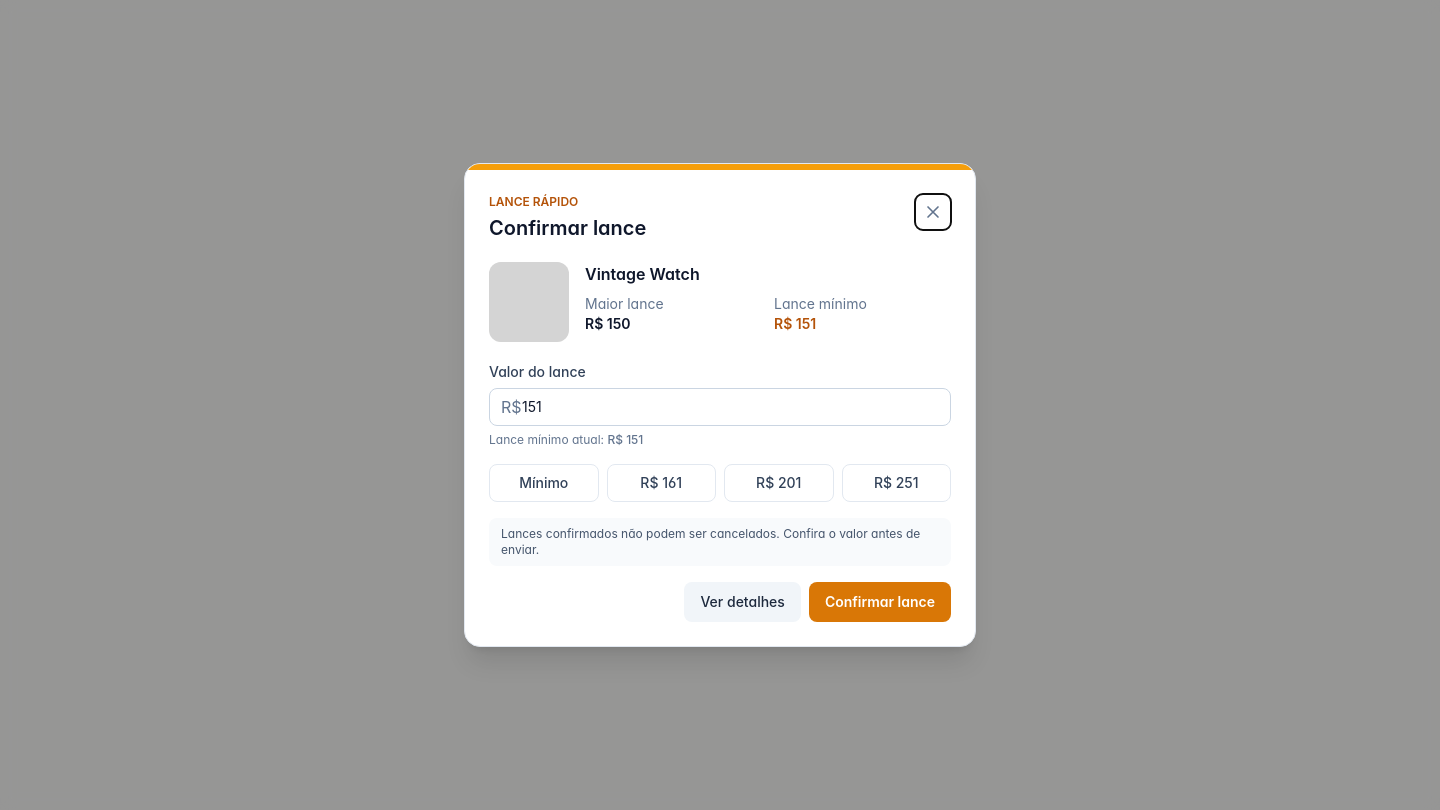
QuickBidModal › submits the minimum bid and shows success feedback
Check: the dialog "Confirmar lance" is shown, box [464,163,976,647]
Check: the number field labelled "Valor do lance" holds "151", box [489,388,951,426]
Click the button "Confirmar lance" at (880, 602), box [809,582,951,622]
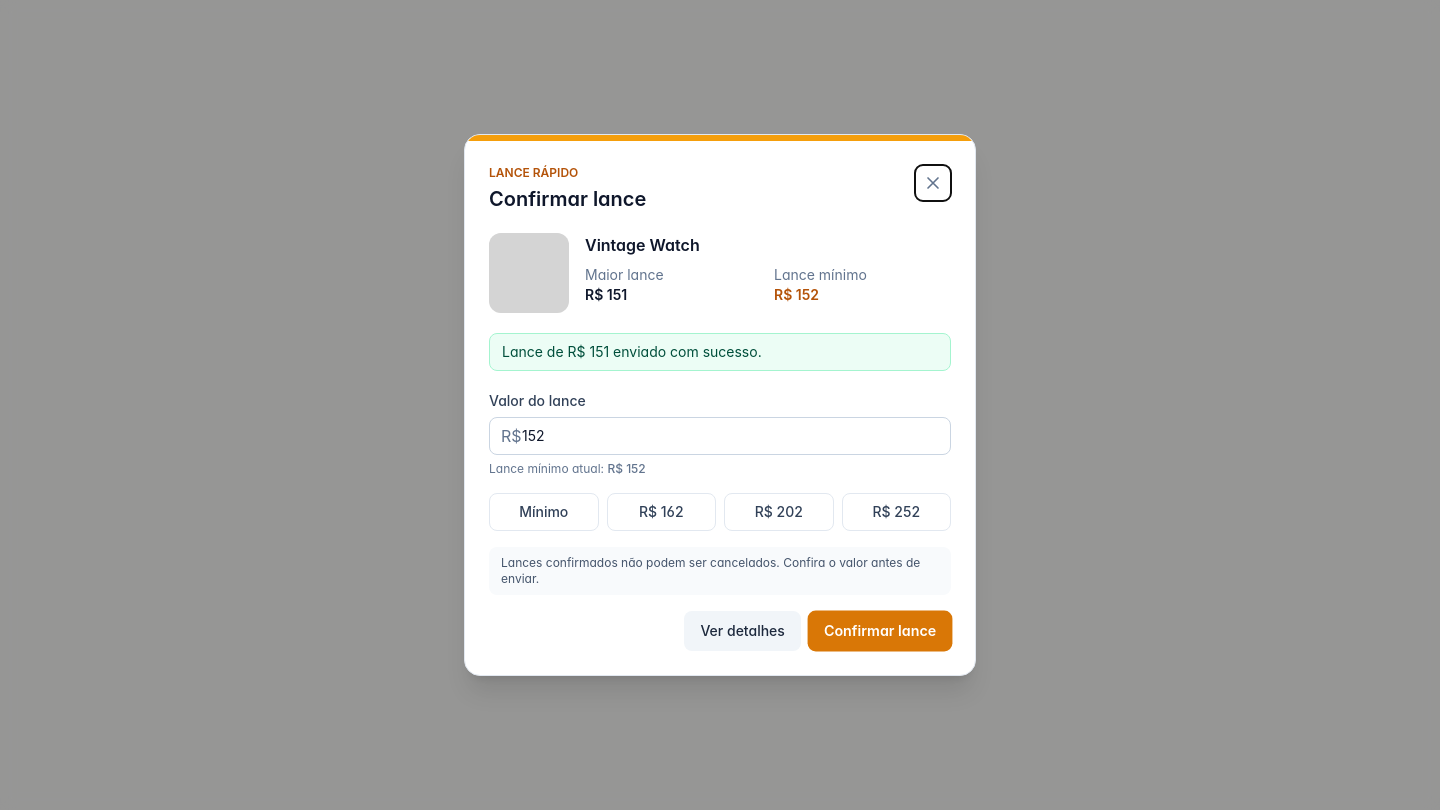
Check: the text "Lance de R$ 151 enviado com sucesso." is shown, box [489,333,951,371]
Check: the number field labelled "Valor do lance" holds "152", box [489,417,951,455]
